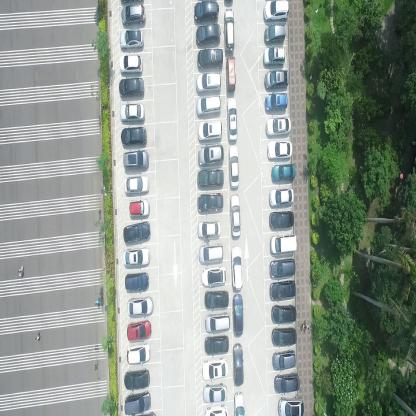car: (124, 390, 151, 415), (123, 220, 151, 243), (273, 371, 300, 394), (201, 357, 228, 380), (120, 2, 145, 26), (195, 95, 221, 118), (198, 144, 224, 167), (195, 72, 222, 94), (270, 232, 297, 254), (123, 246, 150, 268), (231, 245, 243, 293), (126, 342, 150, 366), (193, 0, 218, 23), (119, 102, 145, 124), (122, 150, 148, 172), (200, 265, 226, 287), (204, 312, 230, 334), (270, 302, 296, 324), (270, 279, 296, 301), (126, 319, 152, 341), (264, 68, 288, 91), (118, 52, 143, 74), (196, 23, 221, 45), (198, 243, 223, 265), (263, 0, 288, 22), (122, 175, 148, 196), (269, 186, 295, 207), (270, 257, 296, 278), (198, 193, 224, 214), (118, 29, 144, 50), (124, 368, 150, 389), (119, 127, 146, 147), (127, 296, 154, 316), (197, 169, 225, 188), (204, 288, 228, 310), (230, 194, 242, 238), (205, 334, 229, 356), (272, 348, 296, 370), (198, 120, 223, 141), (201, 382, 226, 403), (118, 77, 144, 97), (269, 208, 295, 228), (267, 140, 294, 159), (266, 117, 293, 136), (226, 95, 237, 141), (197, 219, 221, 240), (229, 145, 240, 190), (198, 49, 224, 68), (278, 396, 304, 415), (271, 162, 296, 181), (272, 325, 297, 344), (262, 46, 285, 66), (233, 293, 243, 338), (233, 341, 243, 386), (124, 272, 149, 290), (128, 197, 149, 218), (264, 93, 287, 112), (264, 24, 286, 43), (224, 7, 233, 53), (226, 56, 236, 92), (233, 390, 245, 415), (203, 404, 228, 415)
